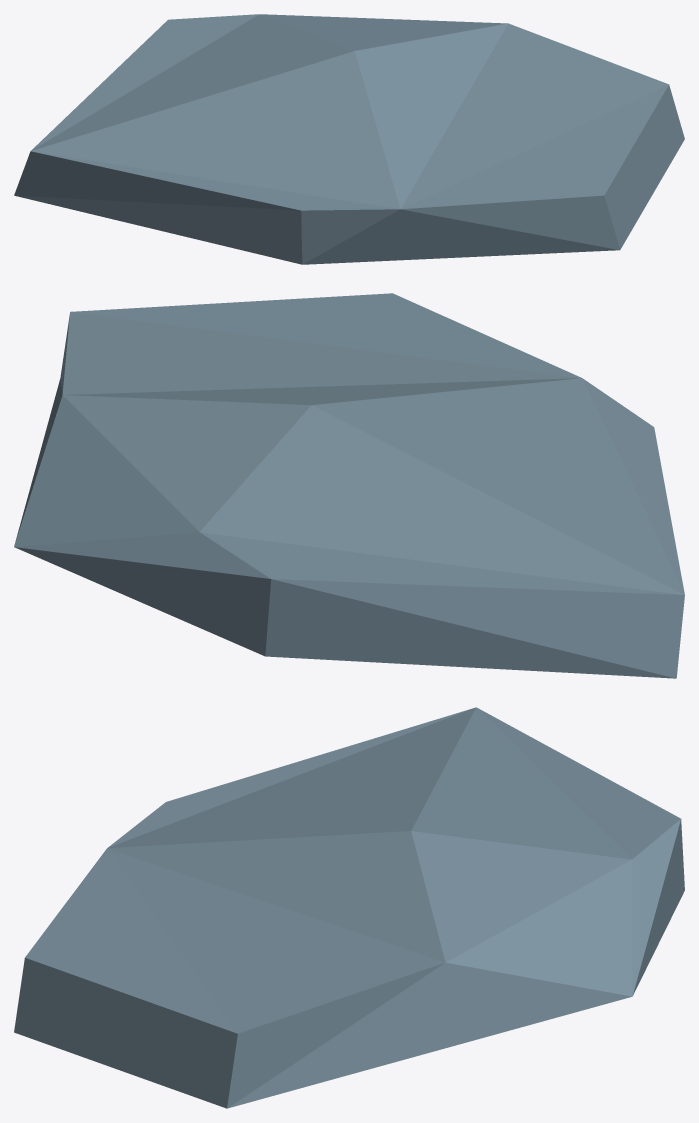
The model's file is Roca sola.fbx.
3 renders of one model, top to bottom at view 1: azimuth 30°, elevation 25°; view 2: azimuth 150°, elevation 25°; view 3: azimuth 270°, elevation 25°, orthographic. The views are drawn at different scales.
Parts seen in each view (by area): view 1: rocks; view 2: rocks; view 3: rocks.
Part boxes in pixels (x1,y1,x2,y2): rocks: [14, 14, 684, 264]; rocks: [14, 293, 684, 678]; rocks: [14, 707, 684, 1108].
Size of the model in its own units: 47.57 by 8.85 by 39.47.
